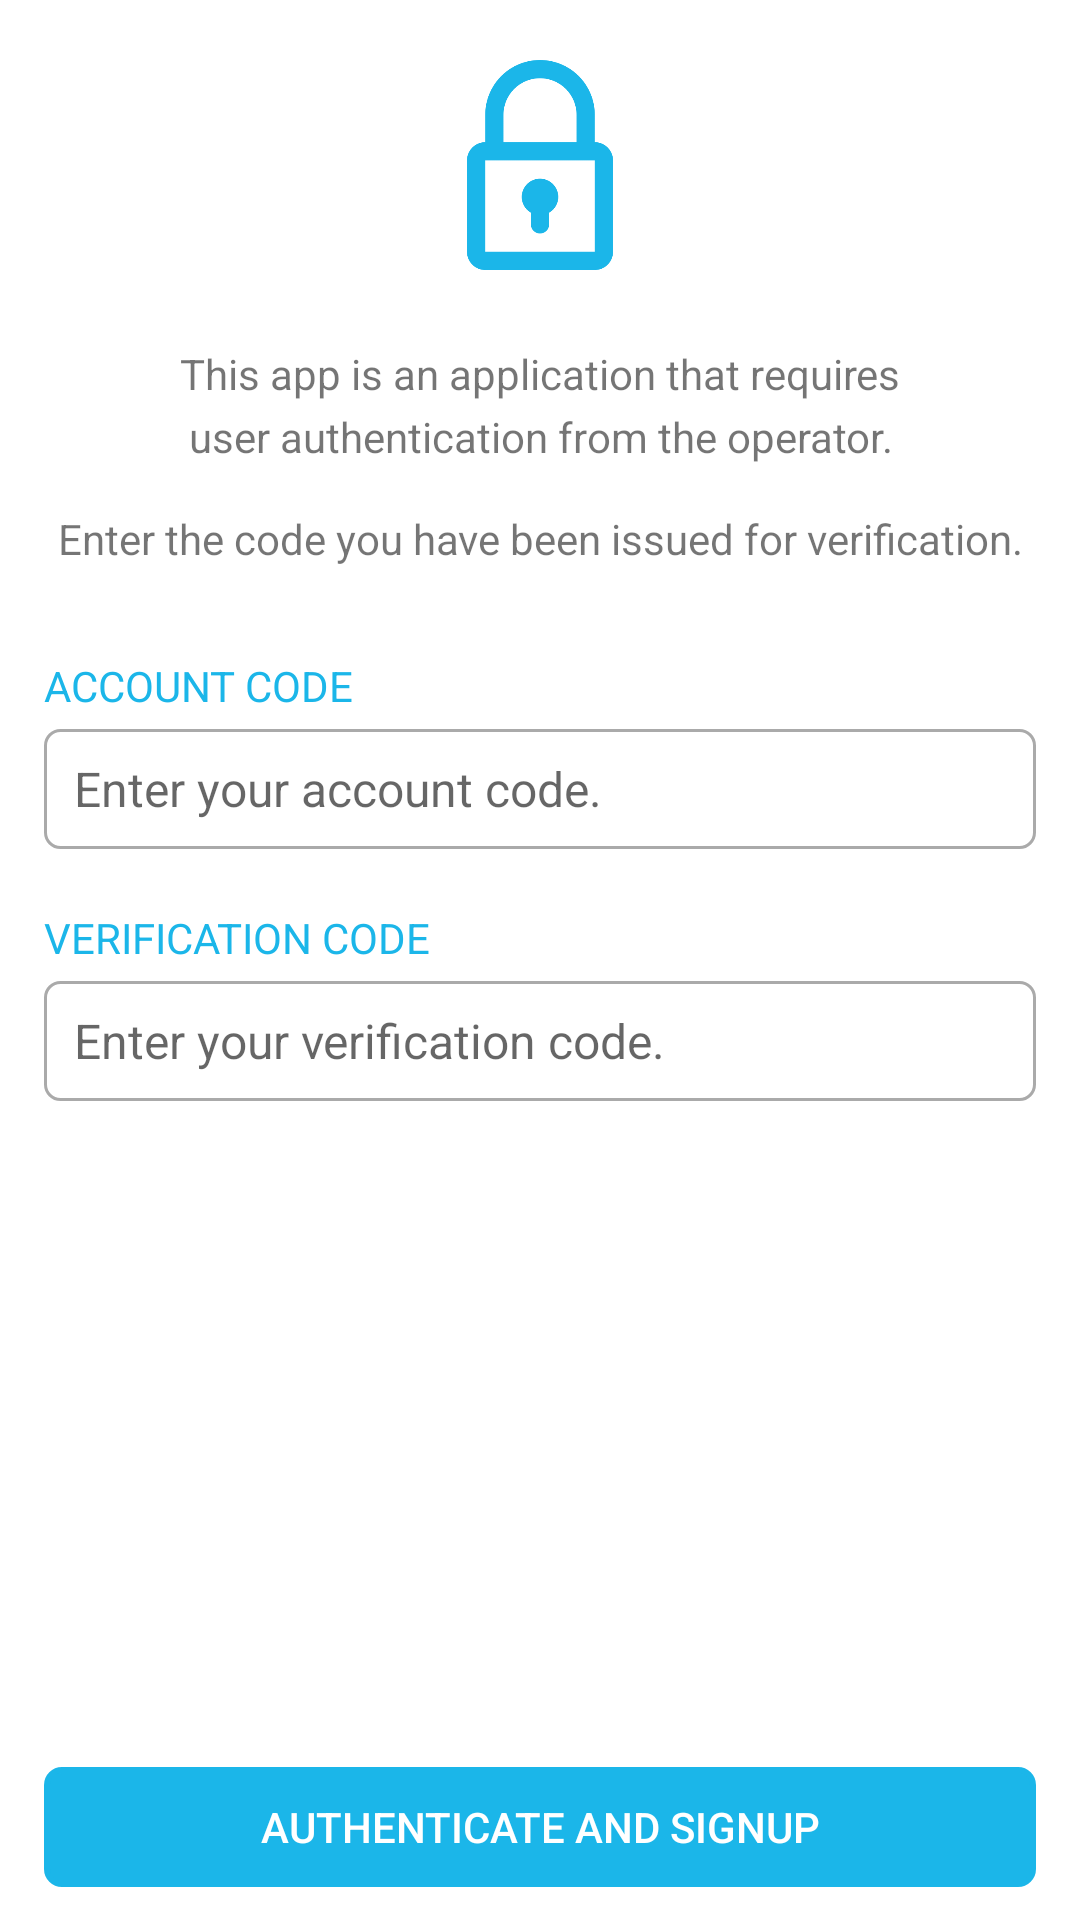

Screen size 1080 x 1920. Icon name, then its box in pixels as (x1, y1, x2, y2):
locker: (467, 60, 613, 270)
